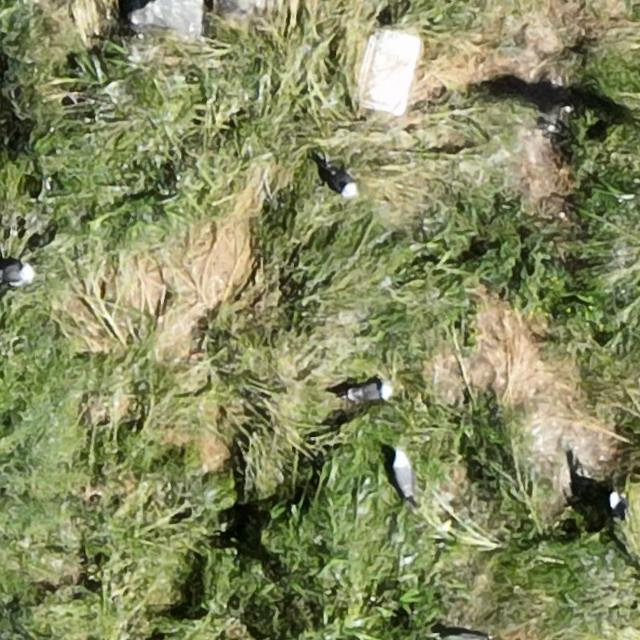umineko: (395, 457, 414, 498), (350, 382, 390, 401), (330, 168, 356, 196), (4, 263, 35, 284), (610, 492, 624, 520)
